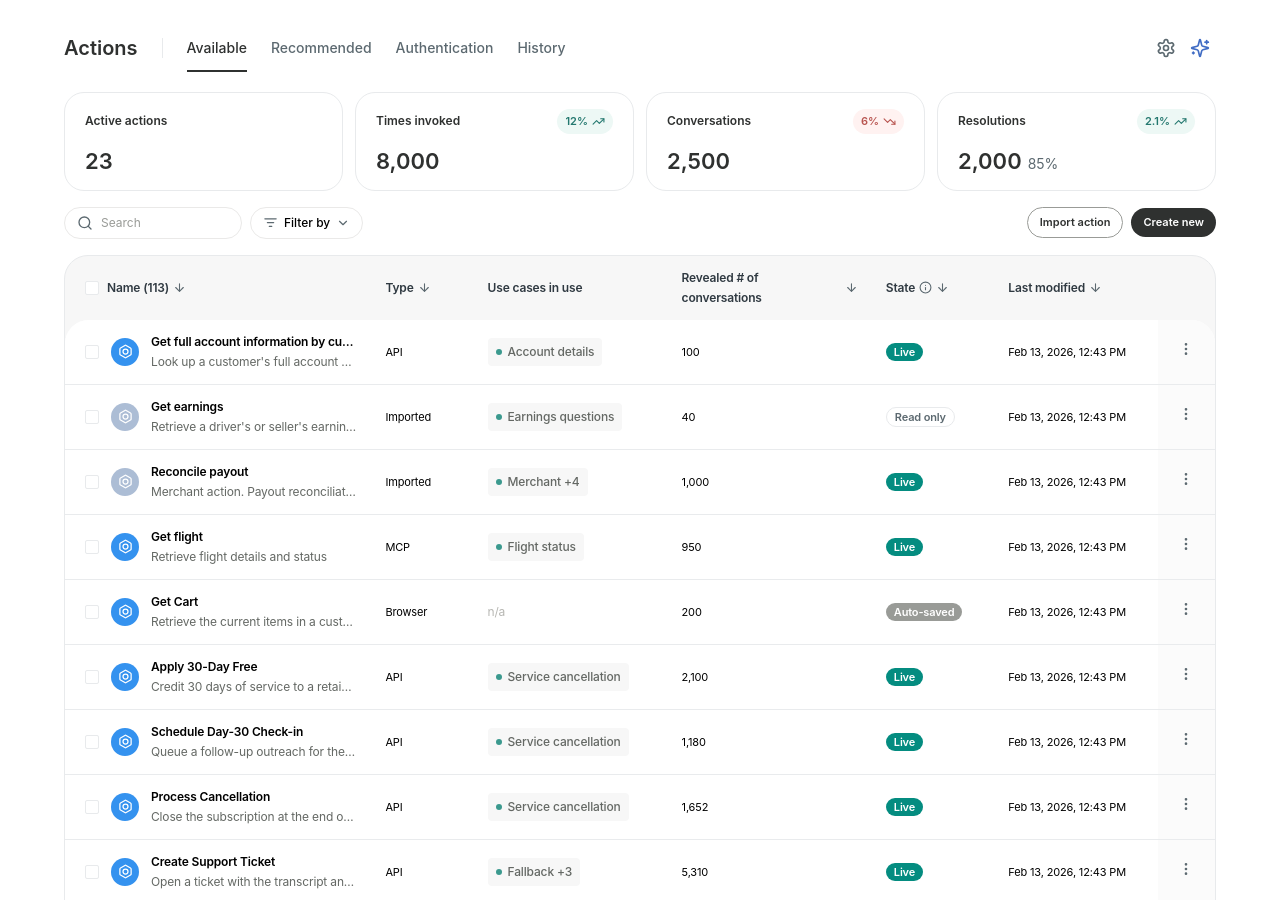
Test case: ToolsScreen › filters the available actions with local search
Type "flight" into the field named "Search actions" at (165, 222), box [101, 214, 229, 232]
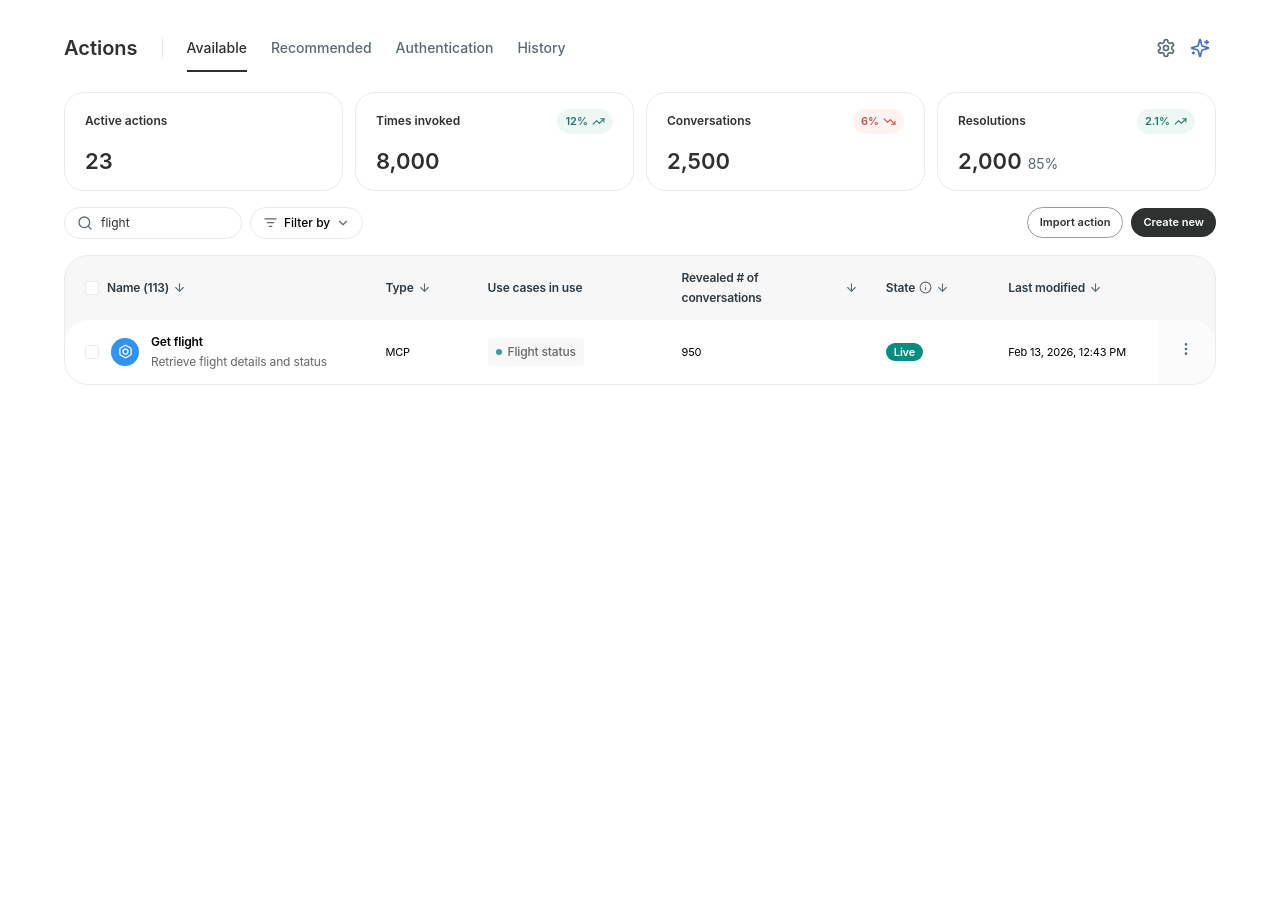
Check: the text "Get flight" is shown, box [151, 334, 203, 348]
Check: the button "Get earnings" is gone
